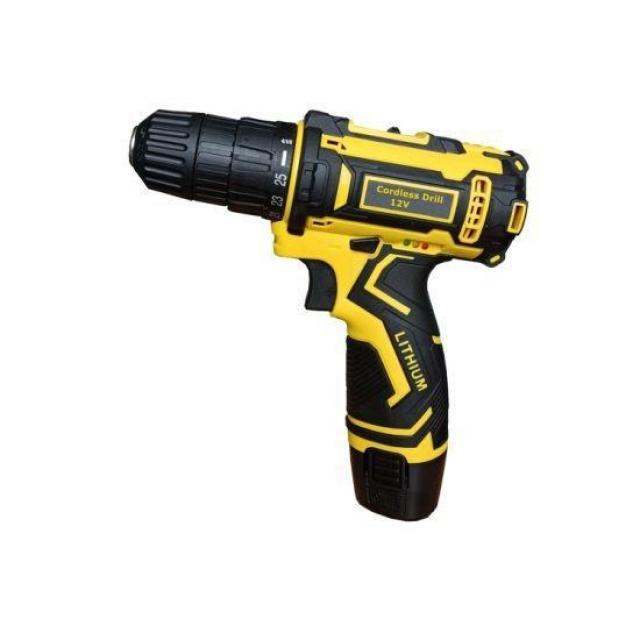drill: (127, 109, 530, 522)
